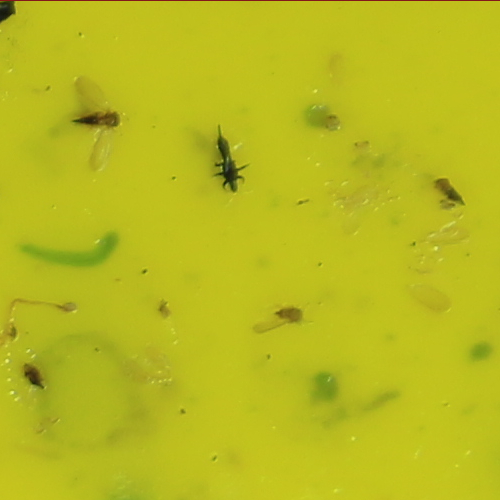psylla: (69, 104, 125, 129), (272, 300, 312, 325)
